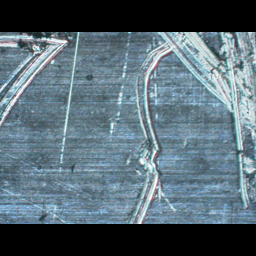d: (157, 32, 255, 209), (124, 33, 182, 223), (0, 32, 76, 168)
